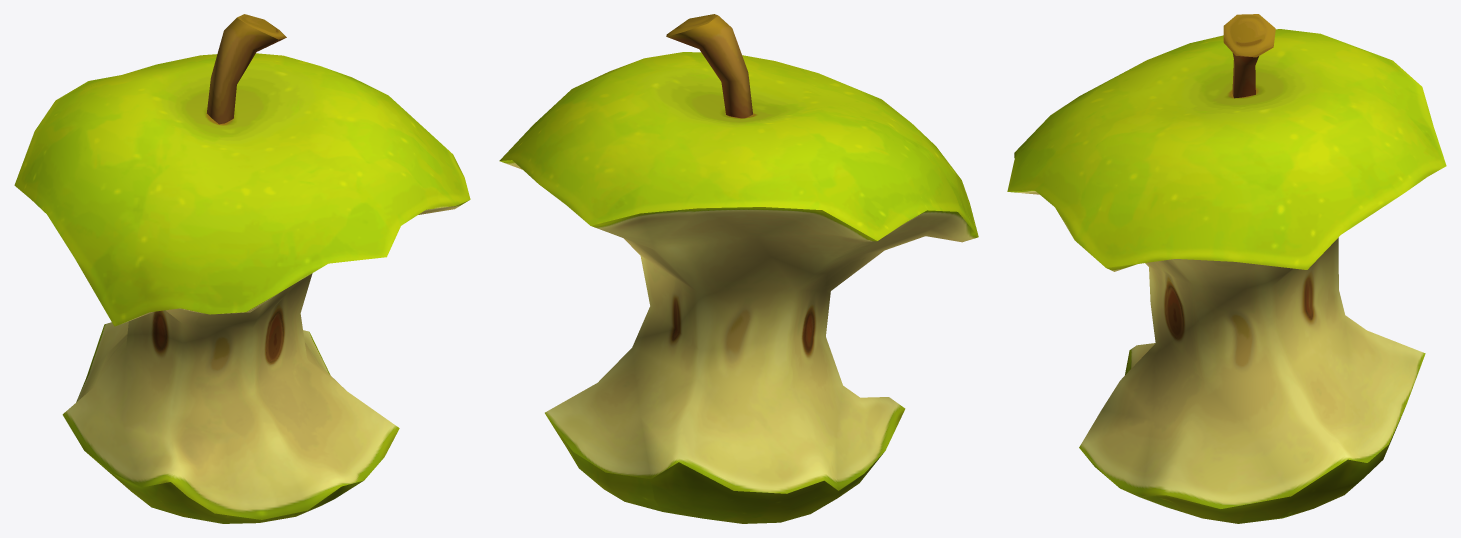
File: SM_AppleGreenBitten.fbx
The picture shows the model from 3 angles, left to right: view 1: azimuth 30°, elevation 25°; view 2: azimuth 150°, elevation 25°; view 3: azimuth 270°, elevation 25°; orthographic projection. The views are drawn at different scales.
Visible parts, largest first — view 1: SM_AppleGreenBitten; view 2: SM_AppleGreenBitten; view 3: SM_AppleGreenBitten.
Part boxes in pixels (x1,y1,x2,y2): SM_AppleGreenBitten: [14, 14, 470, 523]; SM_AppleGreenBitten: [499, 14, 978, 523]; SM_AppleGreenBitten: [1007, 14, 1446, 523].
Bounding box in the file's own units: 12.31 × 14.07 × 11.8.
